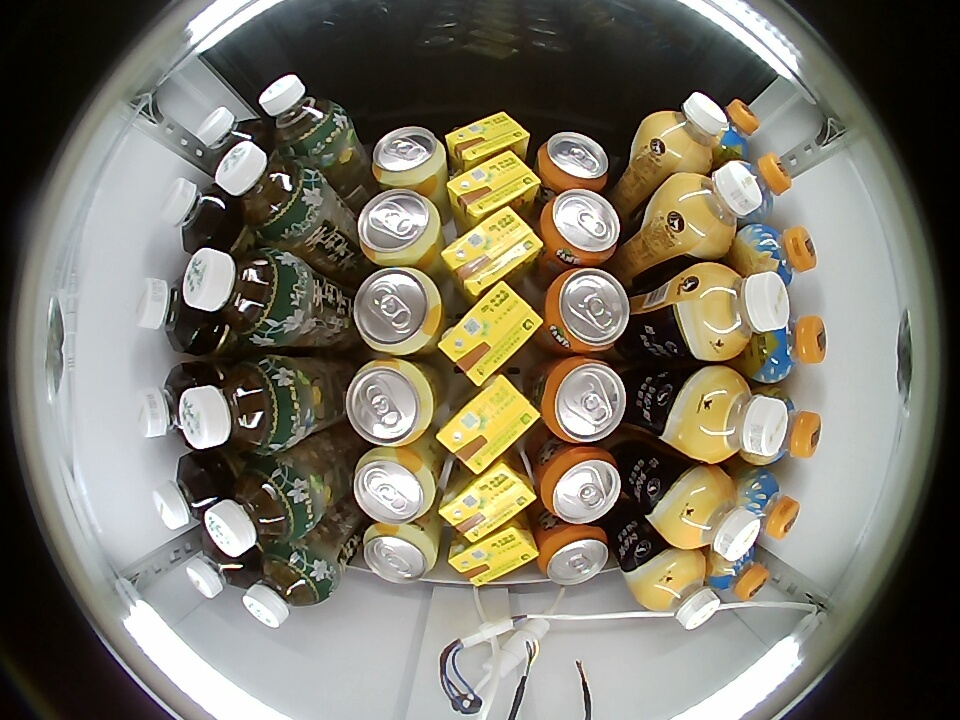asamu: (689, 369, 794, 464), (694, 265, 791, 358), (674, 161, 770, 250), (672, 472, 763, 560), (647, 91, 733, 170), (643, 559, 721, 630)
fenda: (542, 357, 628, 443), (546, 268, 631, 354), (540, 446, 622, 524), (542, 189, 621, 266), (537, 131, 611, 191), (538, 526, 610, 586)
guolicheng: (746, 385, 822, 465), (744, 315, 826, 382), (733, 224, 817, 288), (726, 152, 792, 222), (734, 469, 800, 539), (706, 538, 769, 603), (716, 99, 760, 161)
mangguoxiaolao: (352, 267, 442, 356), (345, 358, 435, 447), (352, 447, 437, 525), (356, 189, 442, 266), (361, 523, 438, 584), (372, 126, 447, 187)
moliqingcha: (184, 247, 300, 349), (179, 356, 297, 454), (205, 459, 312, 557), (216, 142, 321, 241), (258, 73, 349, 158), (243, 545, 331, 628)
weitaningmeng: (438, 281, 542, 387), (436, 374, 541, 473), (443, 206, 544, 295), (439, 461, 537, 541), (447, 150, 540, 219), (447, 525, 537, 586), (444, 111, 531, 165)
wulongcha: (135, 275, 208, 352), (152, 456, 223, 530), (160, 178, 231, 250), (136, 365, 201, 441), (195, 106, 266, 174), (184, 531, 250, 599)
